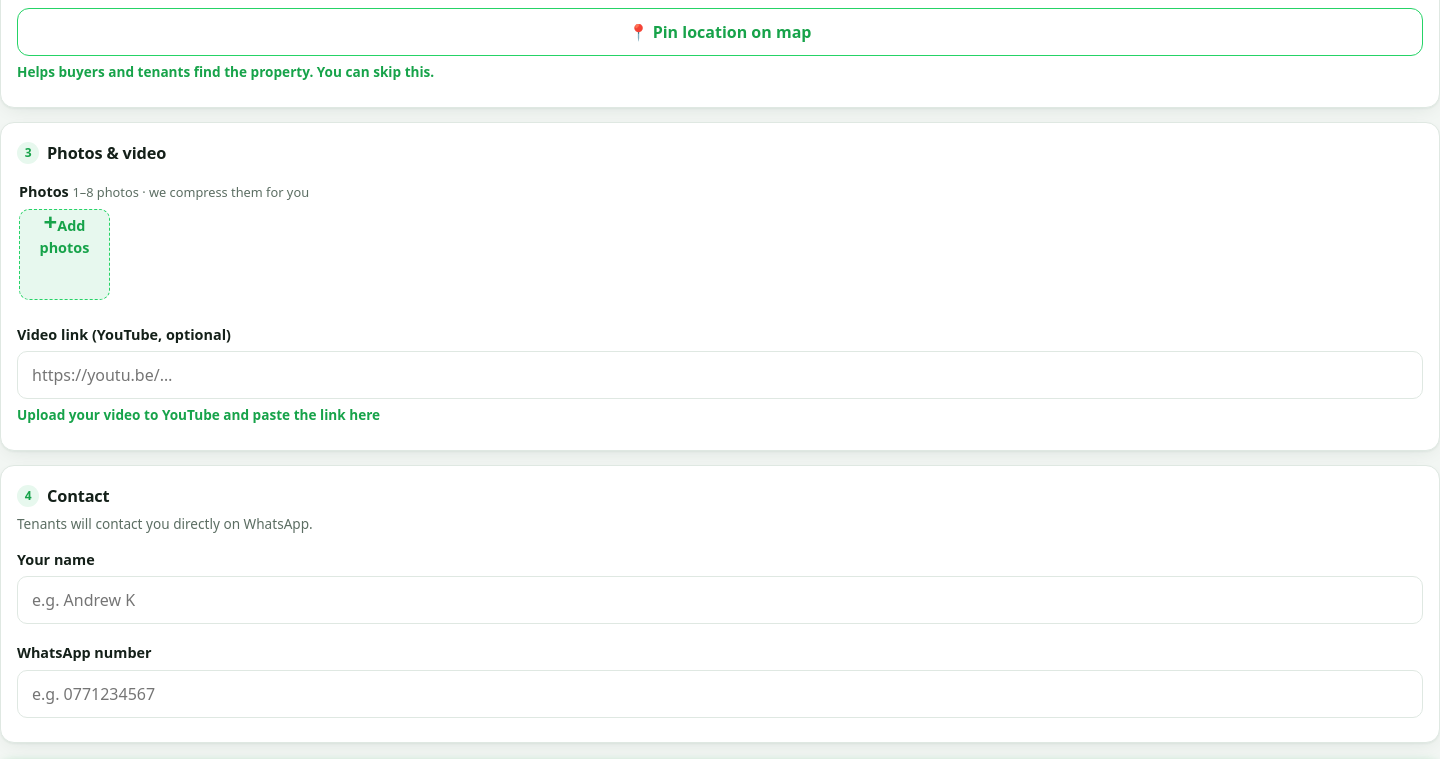
Scenario: land submission form › rejects a non-YouTube video link inline
This screenshot has width=1440, height=759.
(page scrolled)
Step 1. Type "https://vimeo.com/12345" into the field labelled "Video link (YouTube, optional)" → (720, 375), box [17,351,1423,399]
(page scrolled)
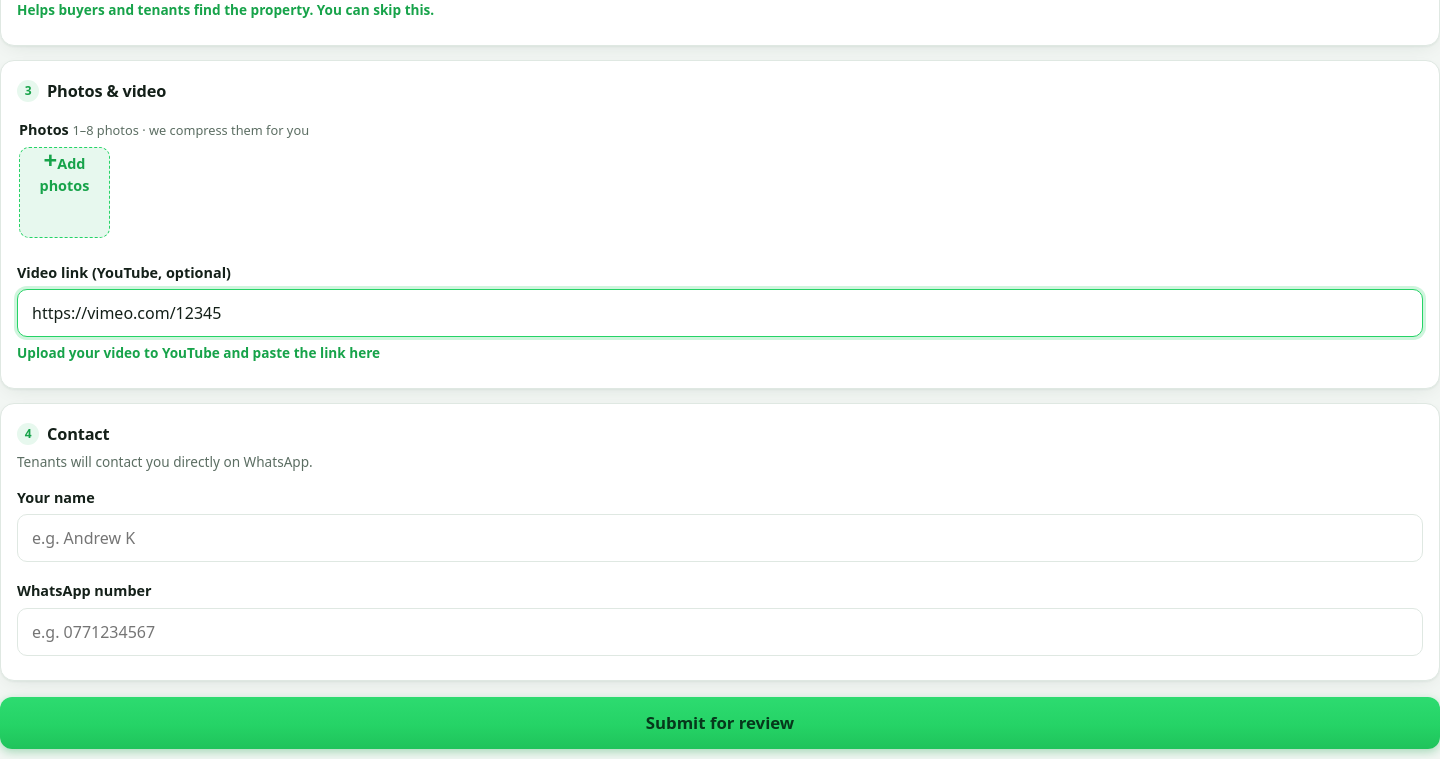
Step 2. Click the button "Submit for review" → (720, 723), box [0,697,1439,749]
(page scrolled)
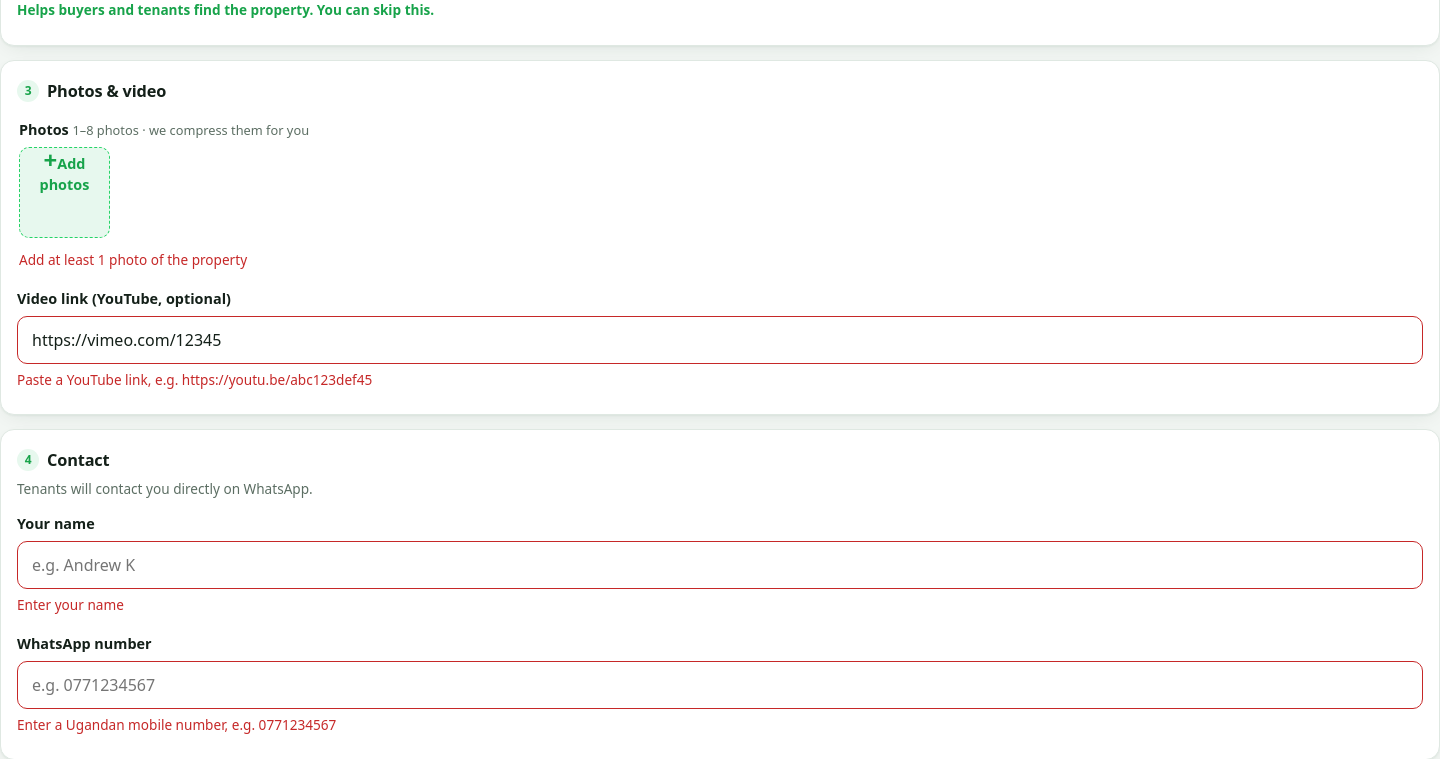
Check: the text "Paste a YouTube link, e.g. https://youtu.be/abc123def45" is shown, box [17,370,372,389]
